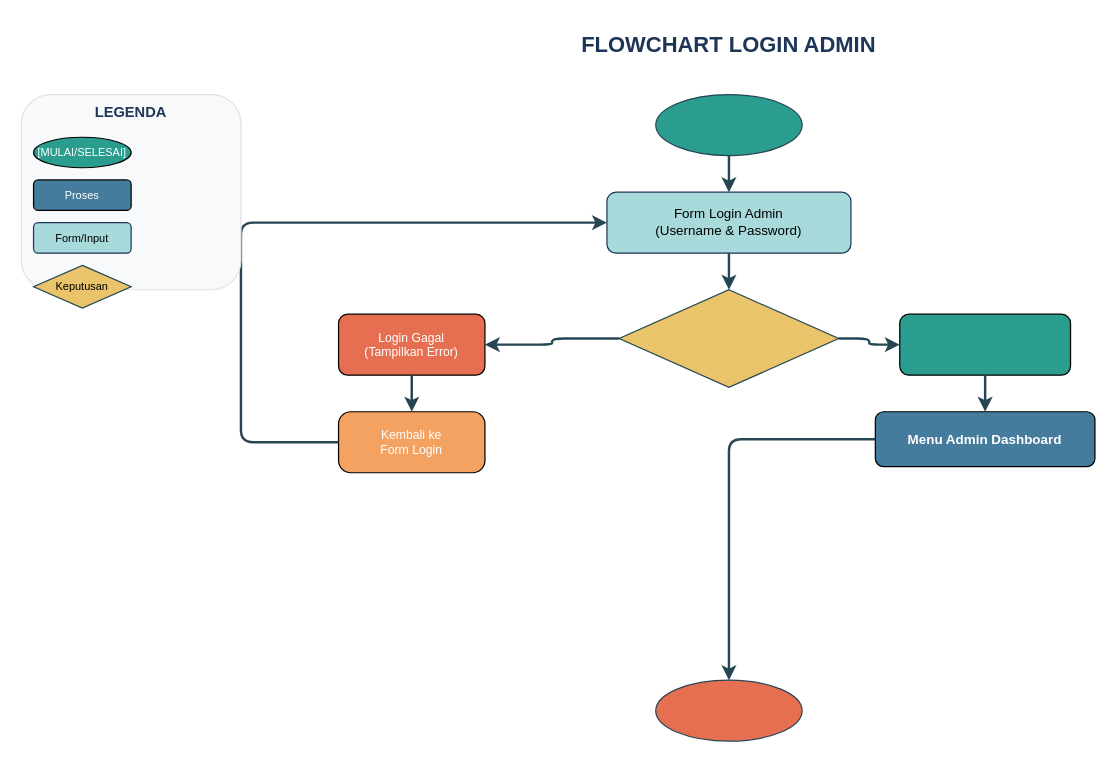
This 1116x763 diagram has some shape labels left out. Each missing label, with the centre of its shape:
[MULAI]: the point at 728,124
[SELESAI]: the point at 728,710
Login Berhasil (Akses Menu Admin): the point at 985,344
Validasi Login (Cek Username & Password)?: the point at 728,338
